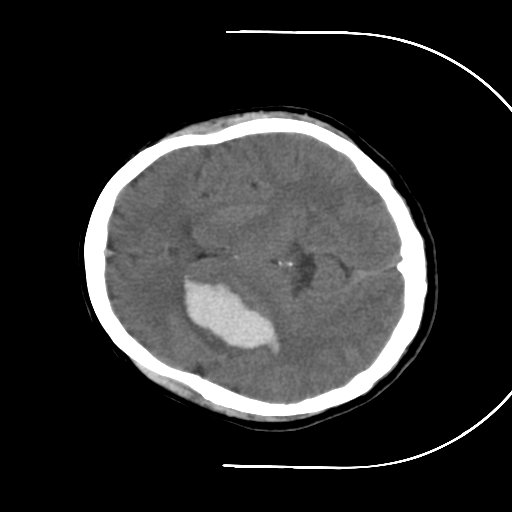a: (161, 255, 295, 372)
